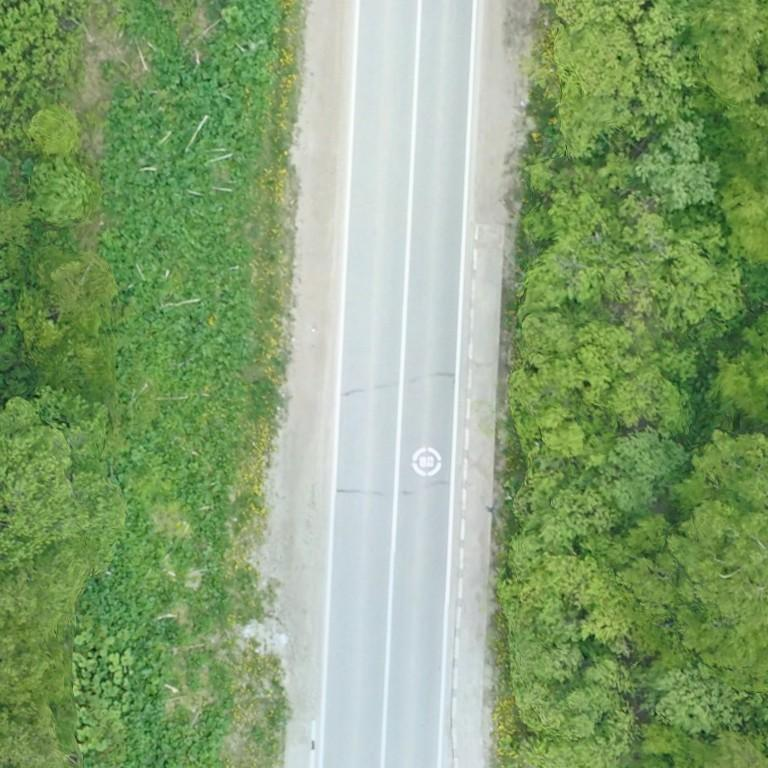hogweed: (100, 0, 280, 388), (87, 576, 162, 634), (129, 701, 172, 767), (169, 714, 222, 762)
